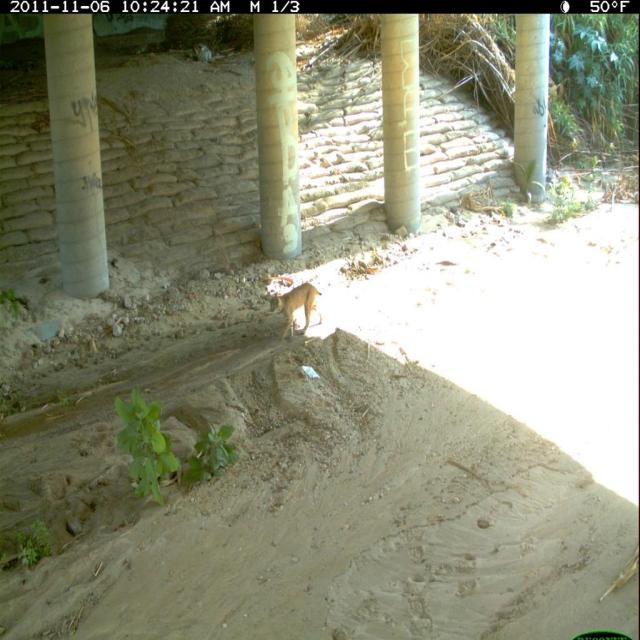bobcat: (267, 279, 326, 346)
